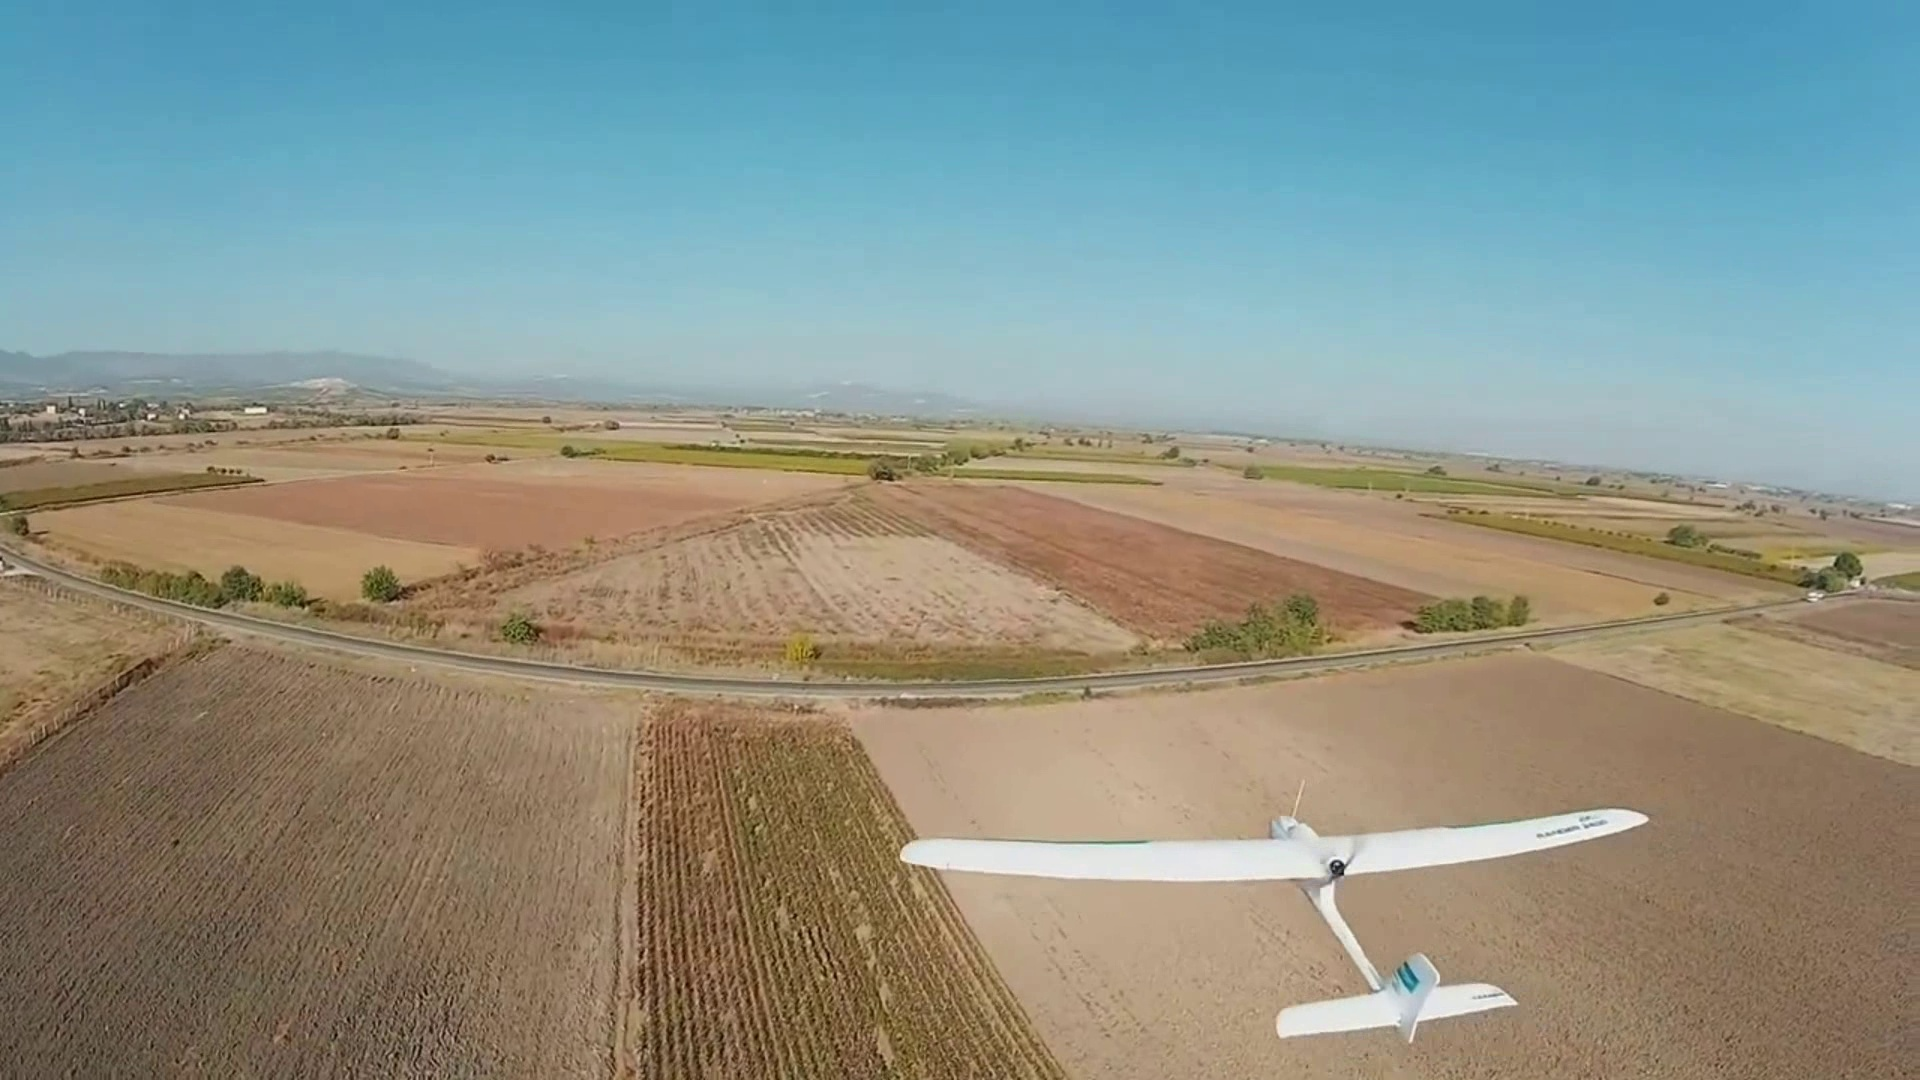airplane: (899, 808, 1654, 1040)
